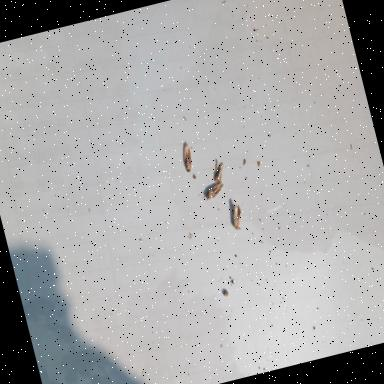pbw: (196, 182, 225, 202), (228, 202, 246, 231), (179, 143, 195, 173), (210, 158, 228, 184)
